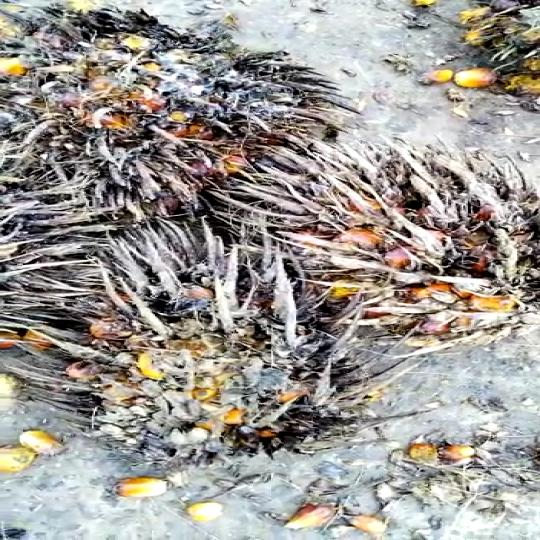terlalu masak: (0, 19, 391, 219), (178, 148, 537, 360)
